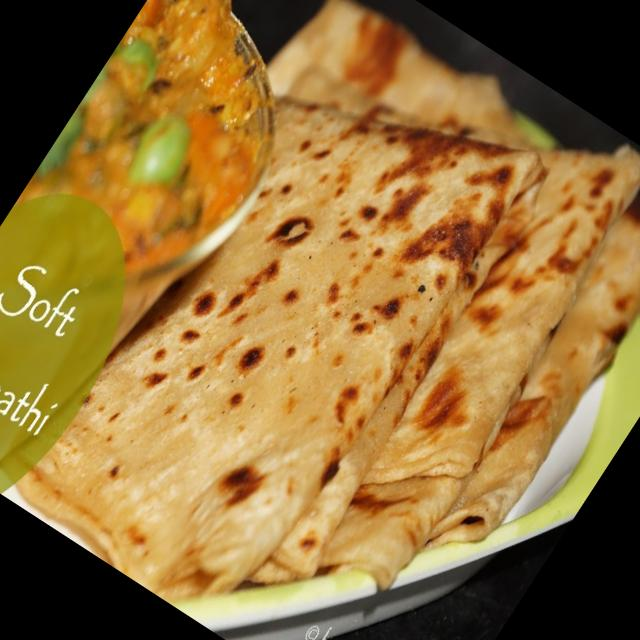roti: (16, 0, 640, 597)
